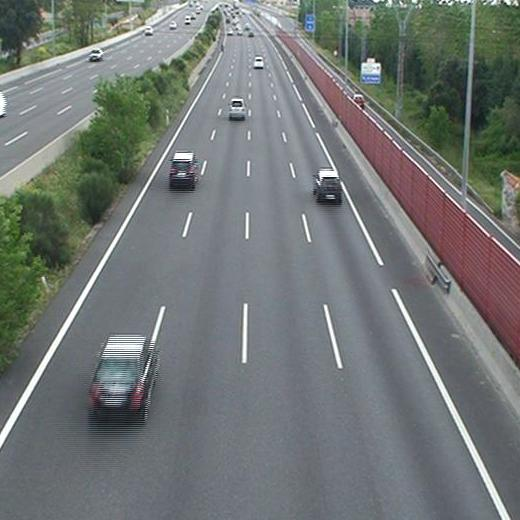car: (91, 335, 157, 414), (171, 153, 197, 185), (314, 171, 341, 199), (229, 98, 246, 118), (253, 58, 263, 67)
